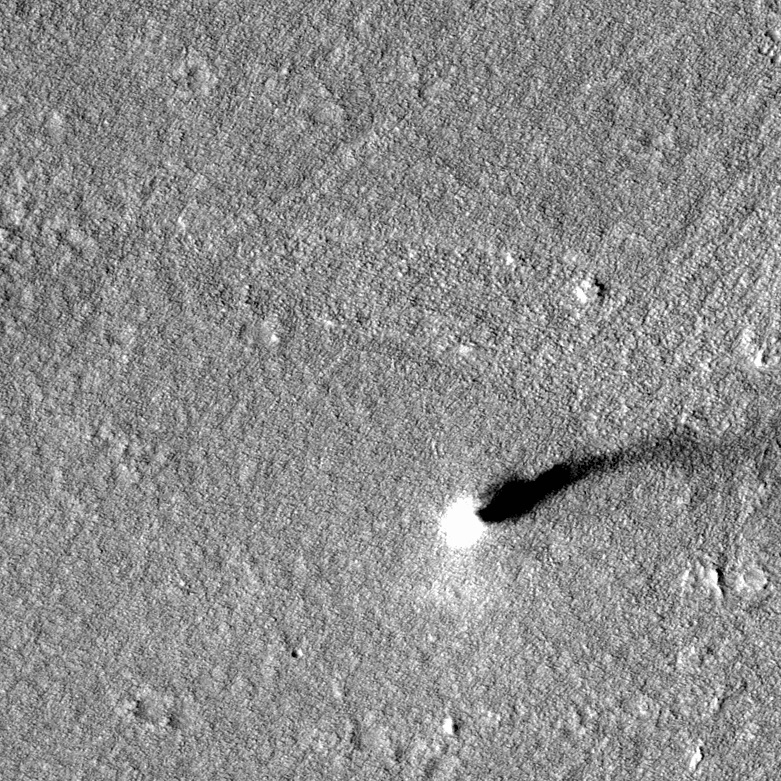dust_devil: (434, 425, 711, 554)
